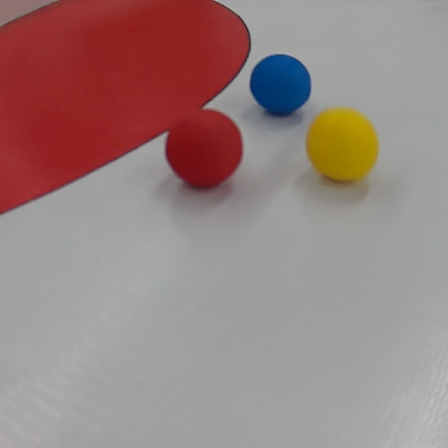blue: (249, 47, 310, 115)
red: (164, 109, 243, 195)
red_base: (0, 0, 254, 214)
yellow: (304, 106, 380, 184)
